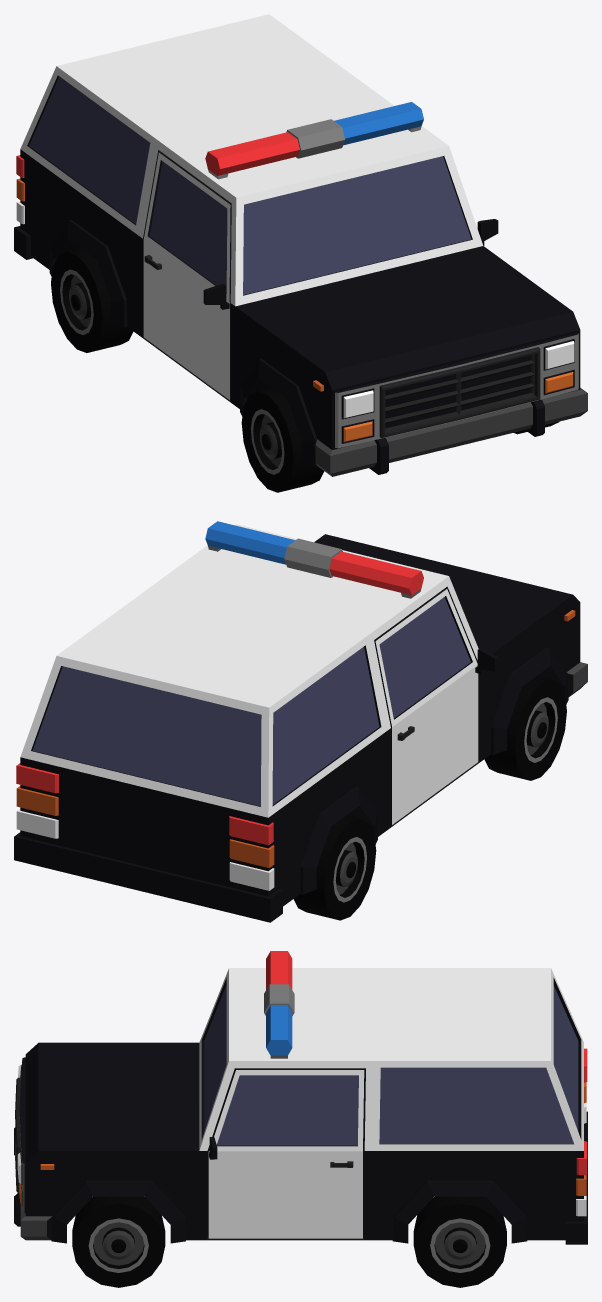
The model's file is Police Jeep.fbx.
3 views of the same model, one above another, from view 1: azimuth 30°, elevation 25°; view 2: azimuth 150°, elevation 25°; view 3: azimuth 270°, elevation 25° (orthographic). The views are drawn at different scales.
Visible parts, largest first — view 1: Vert, Vert.001, Cylinder, Cylinder.001; view 2: Vert, Vert.001, Cylinder.001, Cylinder; view 3: Vert, Cylinder, Cylinder.001, Vert.001.
Boxes of the visible parts, x1=… form: Vert: x1=14, y1=14, x2=587, y2=476; Vert.001: x1=205, y1=102, x2=423, y2=179; Cylinder: x1=241, y1=387, x2=559, y2=492; Cylinder.001: x1=51, y1=248, x2=133, y2=352; Vert: x1=14, y1=524, x2=587, y2=922; Vert.001: x1=205, y1=521, x2=423, y2=598; Cylinder.001: x1=293, y1=815, x2=376, y2=920; Cylinder: x1=484, y1=676, x2=566, y2=780; Vert: x1=14, y1=968, x2=587, y2=1244; Cylinder: x1=72, y1=1196, x2=165, y2=1287; Cylinder.001: x1=413, y1=1196, x2=506, y2=1287; Vert.001: x1=264, y1=951, x2=294, y2=1058.
Size of the model in its own units: 585 by 500 by 1109.
